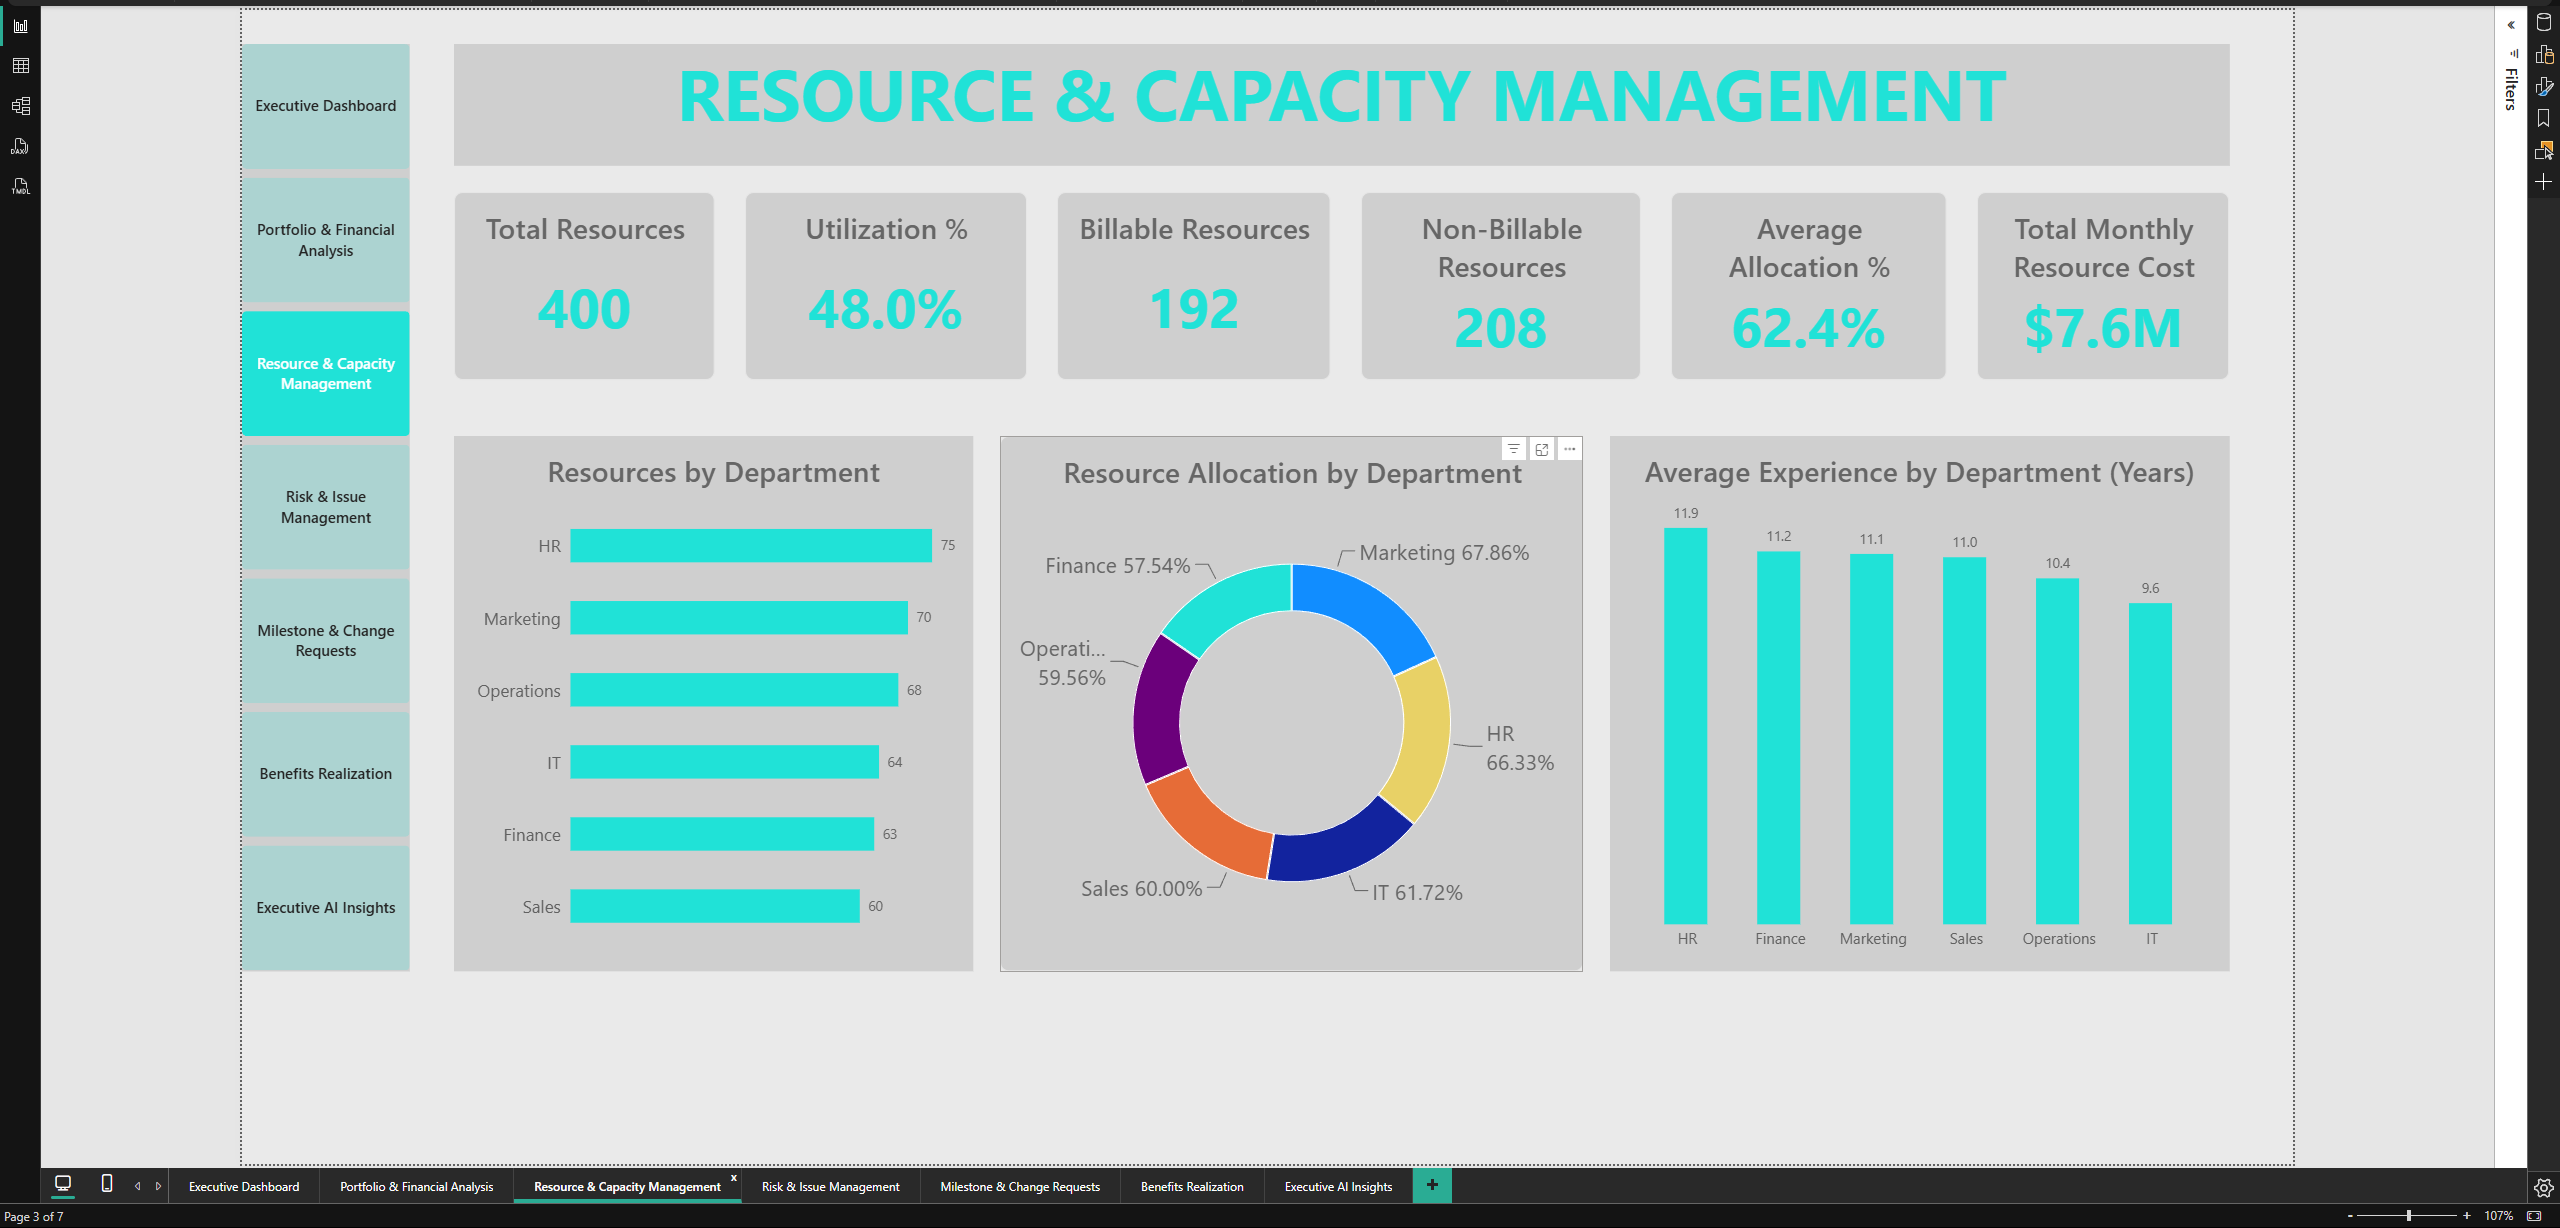

The page's visual inventory and layout, read from the dashboard file:
{"tool":"powerbi","page":{"name":"Resource & Capacity Management","canvas":[1920,1080],"ordinal":2},"visuals":[{"type":"card","title":"Total Resources","fields":{"Values":["Measure Table.Total Resources"]},"box":[198,170,244,176],"z":0},{"type":"card","title":"Non-Billable Resources","fields":{"Values":["Measure Table.Non-Billable Resources"]},"box":[1047.2,170,262,176],"z":1000},{"type":"card","title":"Total Monthly Resource Cost","fields":{"Values":["Measure Table.Total Monthly Resource Cost"]},"box":[1624,170,236,176],"z":2000},{"type":"textbox","title":"RESOURCE & CAPACITY MANAGEMENT","box":[198,32,1662,114],"z":3000},{"type":"clusteredBarChart","title":"Resources by Department","fields":{"Category":["pmo resources.department"],"Y":["CountNonNull(pmo resources.resource_id)"]},"box":[198,399,486,501],"z":4000},{"type":"donutChart","title":"Resource Allocation by Department","fields":{"Category":["pmo resources.department"],"Y":["Measure Table.Average Allocation %"]},"box":[709,399,546,501],"z":5000},{"type":"clusteredColumnChart","title":"Average Experience by Department (Years)","fields":{"Category":["pmo resources.department"],"Y":["Measure Table.Average Experience"]},"box":[1280,399,580,501],"z":6000},{"type":"card","title":"Billable Resources","fields":{"Values":["Measure Table.Billable Resources"]},"box":[762.8,170,256,176],"z":7000},{"type":"card","title":"Average Allocation %","fields":{"Values":["Measure Table.Average Allocation %"]},"box":[1337.6,170,258,176],"z":8000},{"type":"card","title":"Utilization %","fields":{"Values":["Measure Table.Utilization %"]},"box":[470.4,170,264,176],"z":9000},{"type":"pageNavigator","box":[0,32,157,868],"z":10000}]}

Visuals, with their boxes on the page's 1920x1080 design canvas (x1, y1, x2, y2). These are canvas units, not pixel positions in the 2560x1228 screenshot, which may show the page scaled, cropped or inside an application window:
"Total Resources" card: select_region(198, 170, 442, 346)
"Non-Billable Resources" card: select_region(1047, 170, 1309, 346)
"Total Monthly Resource Cost" card: select_region(1624, 170, 1860, 346)
"RESOURCE & CAPACITY MANAGEMENT" textbox: select_region(198, 32, 1860, 146)
"Resources by Department" clusteredBarChart: select_region(198, 399, 684, 900)
"Resource Allocation by Department" donutChart: select_region(709, 399, 1255, 900)
"Average Experience by Department (Years)" clusteredColumnChart: select_region(1280, 399, 1860, 900)
"Billable Resources" card: select_region(763, 170, 1019, 346)
"Average Allocation %" card: select_region(1338, 170, 1596, 346)
"Utilization %" card: select_region(470, 170, 734, 346)
pageNavigator: select_region(0, 32, 157, 900)
